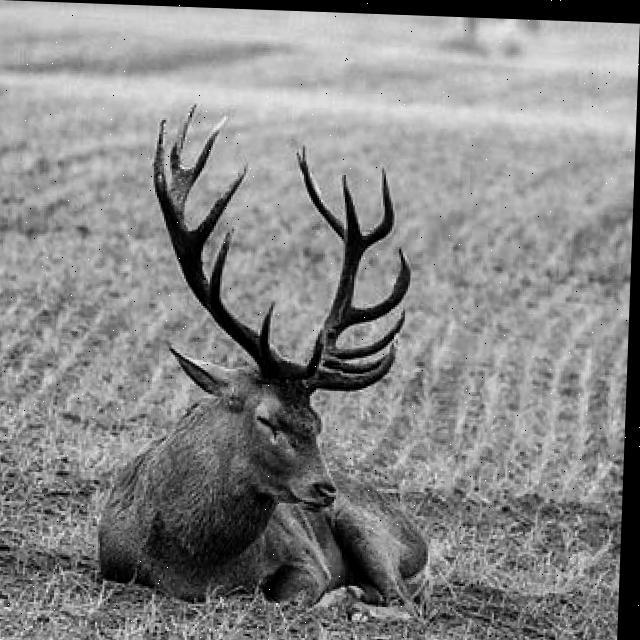Deer: (33, 105, 476, 640)
